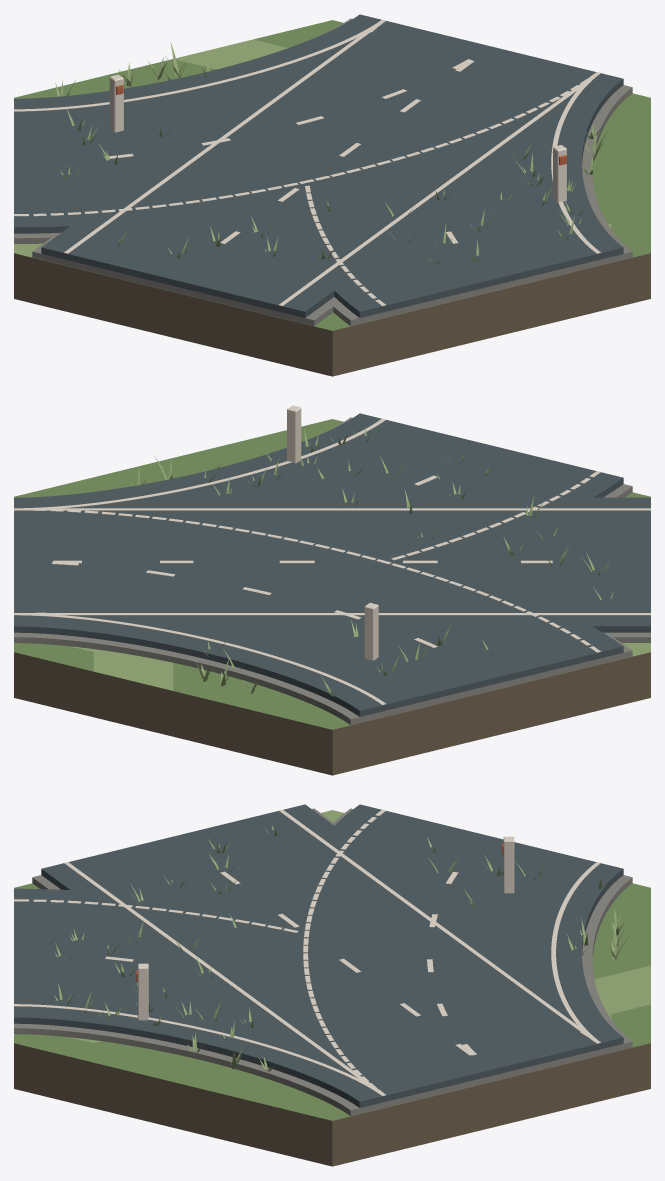
The model's file is asphalt-road.glb.
The picture shows the model from 3 angles, top to bottom: view 1: azimuth 30°, elevation 25°; view 2: azimuth 150°, elevation 25°; view 3: azimuth 270°, elevation 25°; orthographic projection.
Visible parts, largest first — view 1: RouteRoot_mesh, RouteBuild.060_mesh, RouteBuild.009_mesh, RouteBuild.014_mesh, RouteBuild.034_mesh, RouteBuild.010_mesh, RouteBuild.011_mesh, RouteBuild.013_mesh, RouteBuild.012_mesh, RouteBuild.037_mesh, RouteBuild.039_mesh, RouteBuild.035_mesh (+16 smaller); view 2: RouteRoot_mesh, RouteBuild.060_mesh, RouteBuild.034_mesh, RouteBuild.009_mesh, RouteBuild.010_mesh, RouteBuild.013_mesh, RouteBuild.012_mesh, RouteBuild.011_mesh, RouteBuild.039_mesh, RouteBuild.035_mesh, RouteBuild.014_mesh, RouteBuild.061_mesh (+19 smaller); view 3: RouteRoot_mesh, RouteBuild.060_mesh, RouteBuild.009_mesh, RouteBuild.014_mesh, RouteBuild.034_mesh, RouteBuild.010_mesh, RouteBuild.013_mesh, RouteBuild.035_mesh, RouteBuild.036_mesh, RouteBuild.061_mesh, RouteBuild.011_mesh, RouteBuild.012_mesh (+19 smaller).
Part boxes in pixels (box(x1,y1,x2,y2)): RouteRoot_mesh: box(14, 20, 650, 376); RouteBuild.060_mesh: box(209, 52, 623, 317); RouteBuild.009_mesh: box(41, 214, 358, 317); RouteBuild.014_mesh: box(303, 14, 622, 119); RouteBuild.034_mesh: box(14, 94, 157, 227); RouteBuild.010_mesh: box(118, 170, 411, 312); RouteBuild.011_mesh: box(149, 131, 460, 233); RouteBuild.013_mesh: box(253, 56, 566, 156); RouteBuild.012_mesh: box(201, 92, 516, 189); RouteBuild.037_mesh: box(208, 55, 442, 175); RouteBuild.039_mesh: box(318, 15, 623, 127); RouteBuild.035_mesh: box(81, 85, 248, 218); RouteRoot_mesh: box(14, 419, 650, 775); RouteBuild.060_mesh: box(133, 413, 623, 652); RouteBuild.034_mesh: box(318, 598, 623, 716); RouteBuild.009_mesh: box(537, 497, 650, 626); RouteBuild.010_mesh: box(437, 497, 536, 626); RouteBuild.013_mesh: box(128, 497, 227, 626); RouteBuild.012_mesh: box(227, 497, 332, 626); RouteBuild.011_mesh: box(332, 497, 437, 626); RouteBuild.039_mesh: box(14, 497, 157, 632); RouteBuild.035_mesh: box(268, 571, 532, 711); RouteBuild.014_mesh: box(14, 497, 127, 626); RouteBuild.061_mesh: box(39, 465, 333, 636); RouteRoot_mesh: box(14, 810, 650, 1166); RouteBuild.060_mesh: box(14, 888, 587, 1039); RouteBuild.009_mesh: box(41, 804, 361, 910); RouteBuild.014_mesh: box(305, 997, 623, 1107); RouteBuild.034_mesh: box(305, 804, 623, 894); RouteBuild.010_mesh: box(47, 846, 411, 943); RouteBuild.013_mesh: box(253, 959, 564, 1052); RouteBuild.035_mesh: box(286, 861, 617, 922); RouteBuild.036_mesh: box(277, 907, 589, 953); RouteBuild.061_mesh: box(14, 966, 611, 1052); RouteBuild.011_mesh: box(173, 882, 463, 985); RouteBuild.012_mesh: box(201, 921, 516, 1023).
Bounding box in the file's own units: 3.5 × 0.58 × 3.03.
